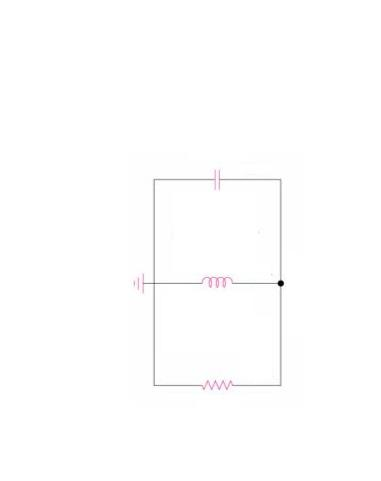resistor: (186, 368, 252, 396)
